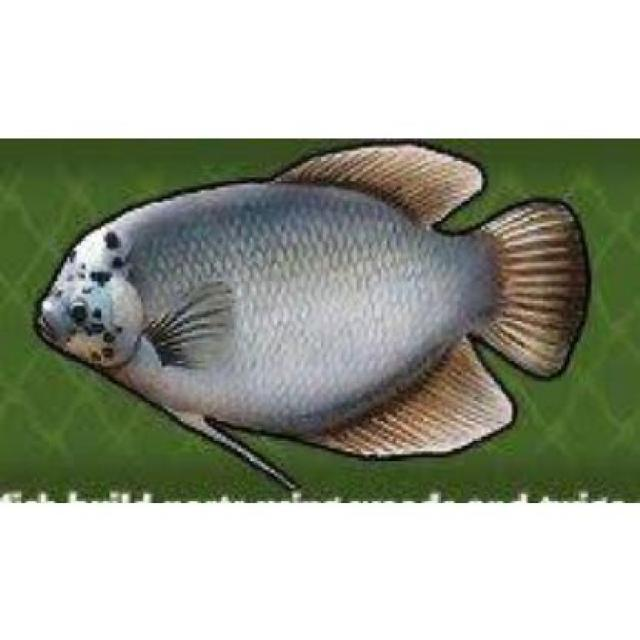gurame: (32, 137, 590, 460)
